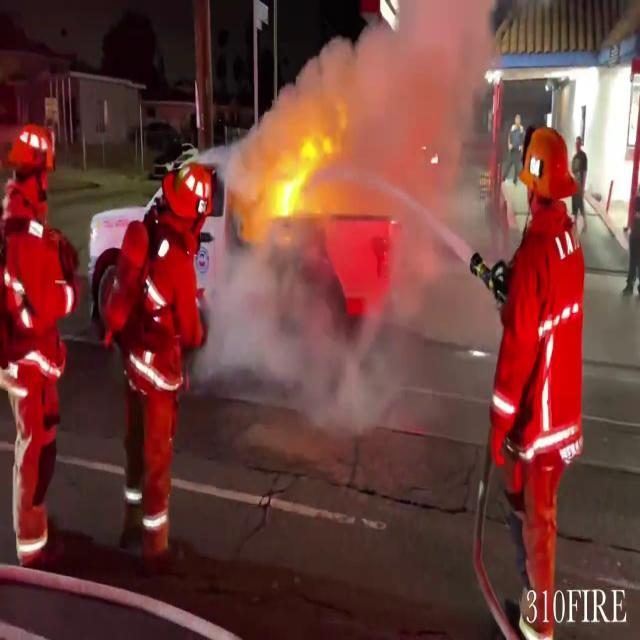Fire: (258, 120, 342, 228)
Smoke: (231, 0, 508, 396)
